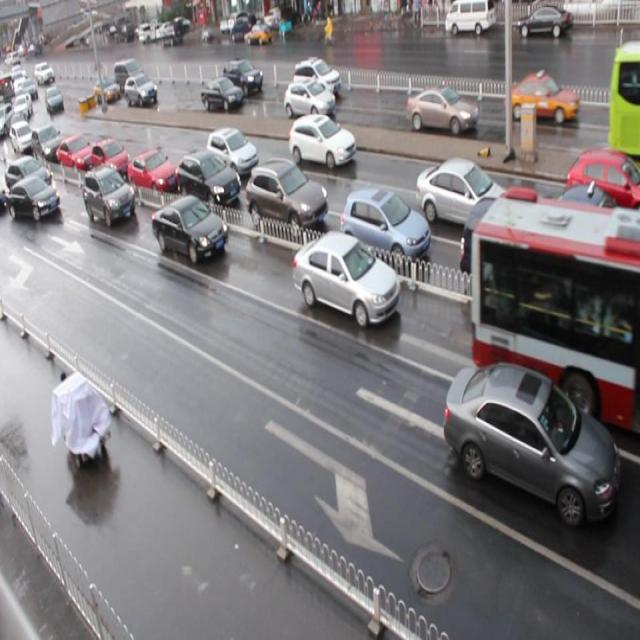car: (442, 359, 620, 529), (292, 231, 400, 328), (530, 184, 640, 272), (414, 156, 514, 234), (340, 186, 429, 270), (246, 158, 327, 233), (564, 146, 640, 222), (150, 196, 228, 266), (504, 74, 578, 124), (407, 86, 478, 138), (288, 117, 354, 172), (175, 149, 240, 204), (83, 162, 136, 229), (0, 176, 62, 223), (206, 125, 260, 175), (127, 145, 177, 193), (1, 156, 53, 202), (292, 59, 340, 100), (284, 80, 333, 118), (54, 130, 92, 176), (199, 77, 245, 113), (222, 58, 262, 98), (90, 138, 128, 176), (31, 125, 63, 164), (125, 76, 158, 105)
truck: (460, 193, 602, 324)
van: (472, 191, 640, 442), (608, 44, 640, 156)
